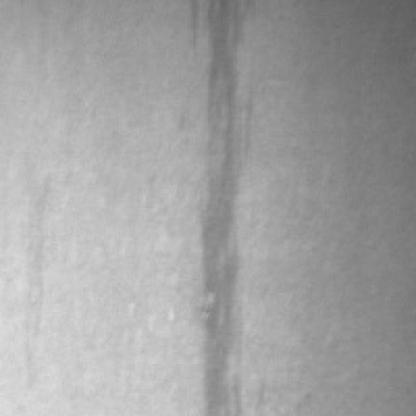inclusion: (185, 0, 258, 408)
